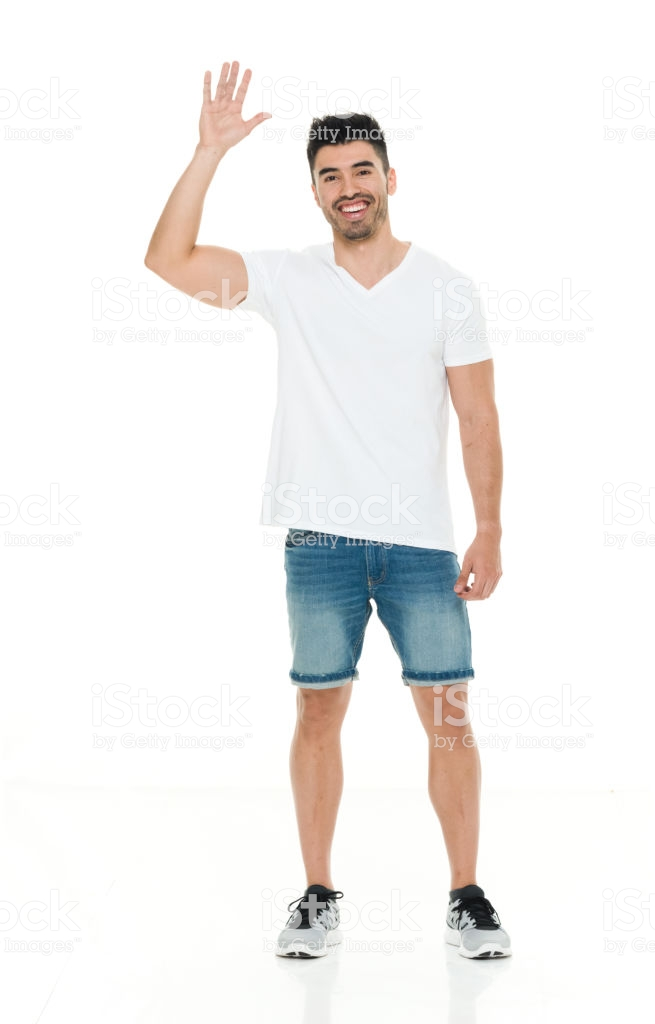open_hand: (188, 48, 284, 161)
